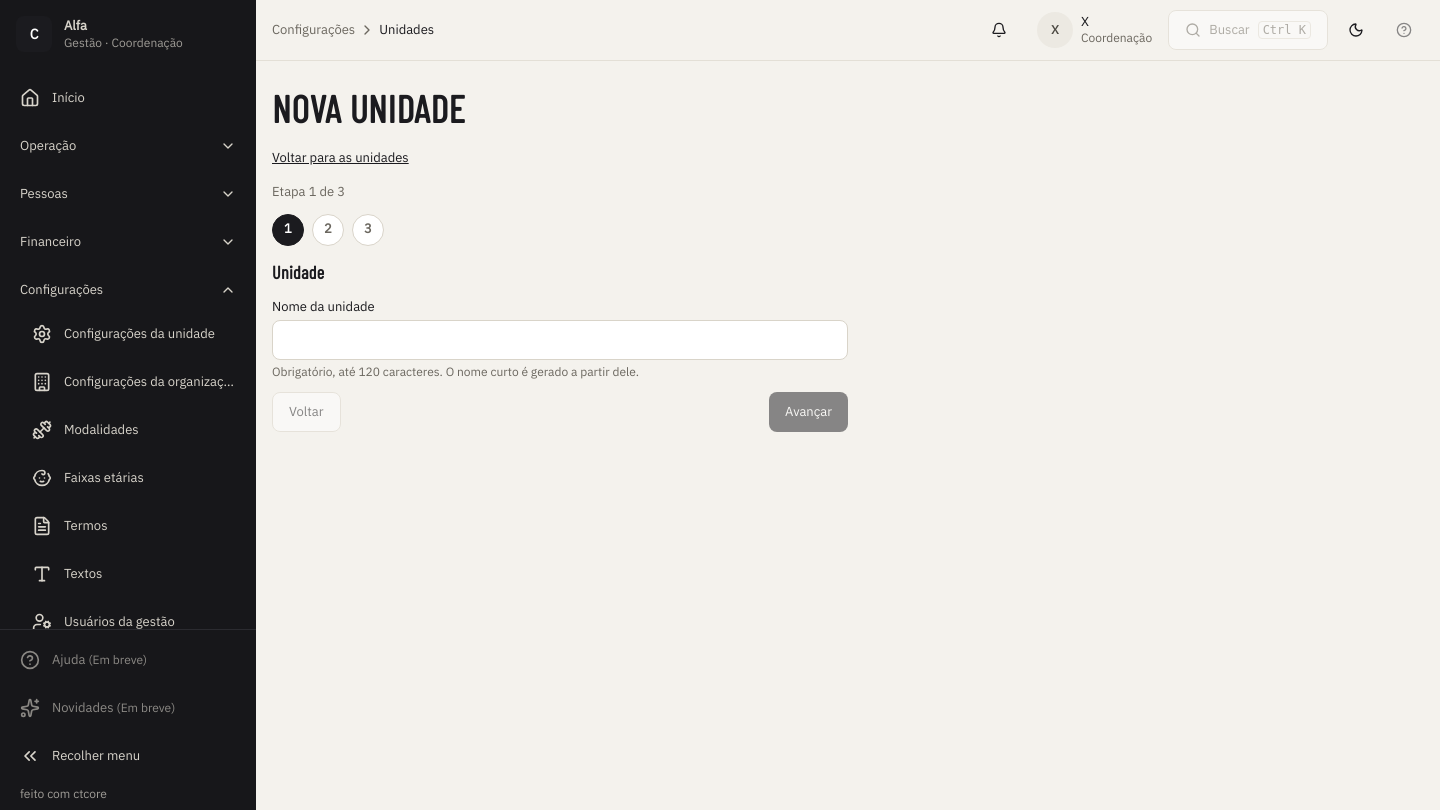
Test case: NewUnitPage › CA16: 409 UNIT_LIMIT_REACHED mostra a mensagem e permite tentar de novo
Type "Nova" into the field labelled "Nome da unidade" at x=560, y=340, box [272,320,848,360]
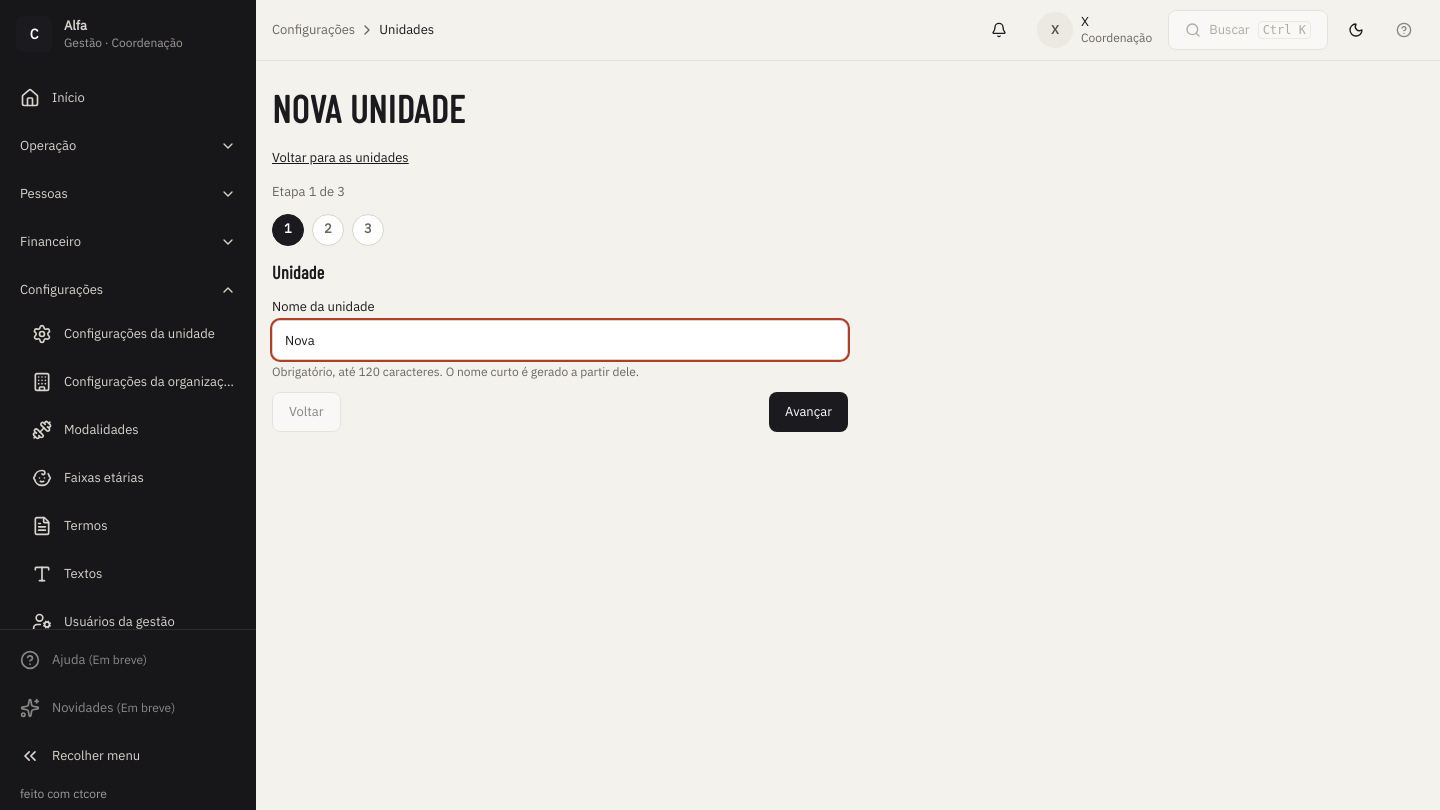
Click the button "Avançar" at x=809, y=412, box [769,392,848,432]
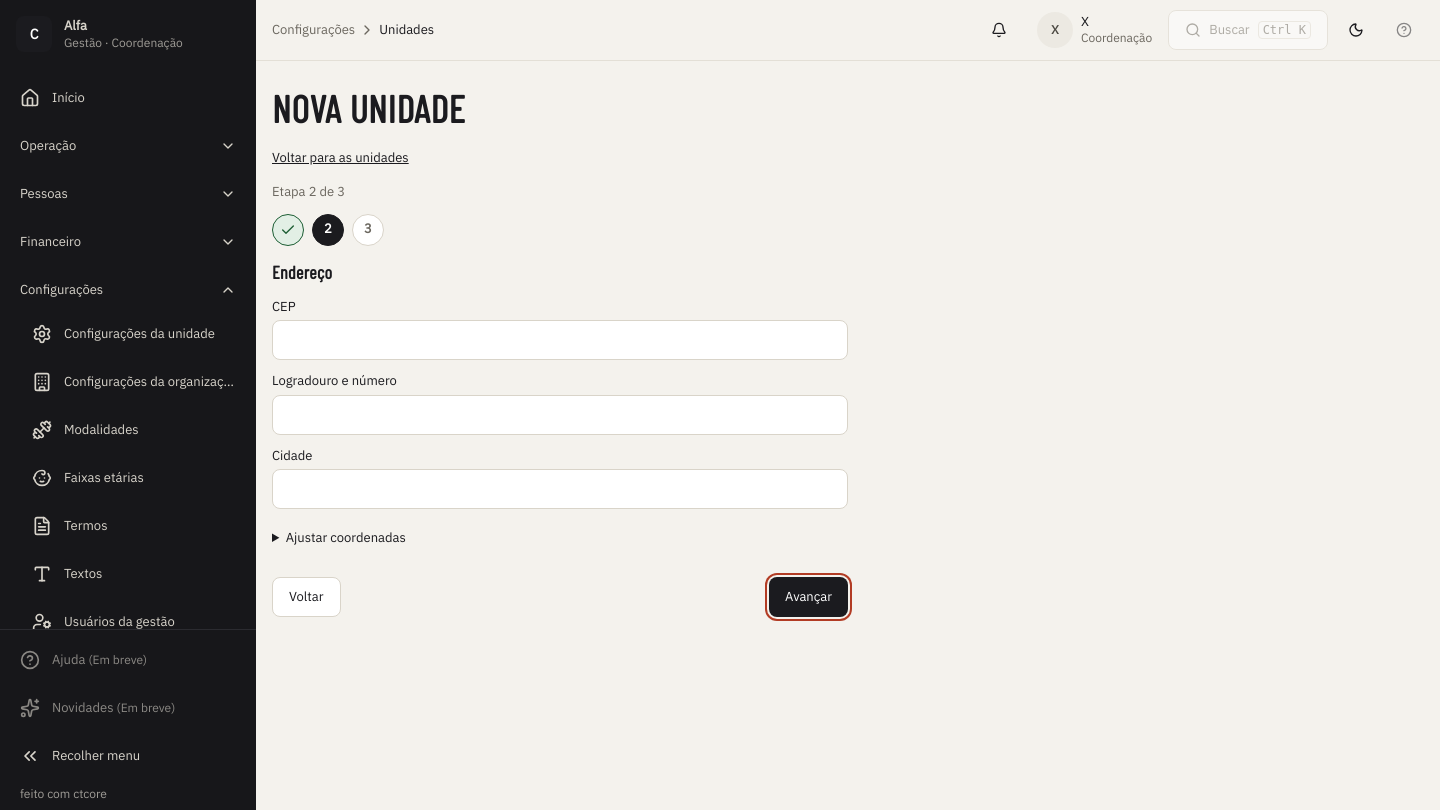
Click the button "Avançar" at x=809, y=597, box [769,577,848,617]
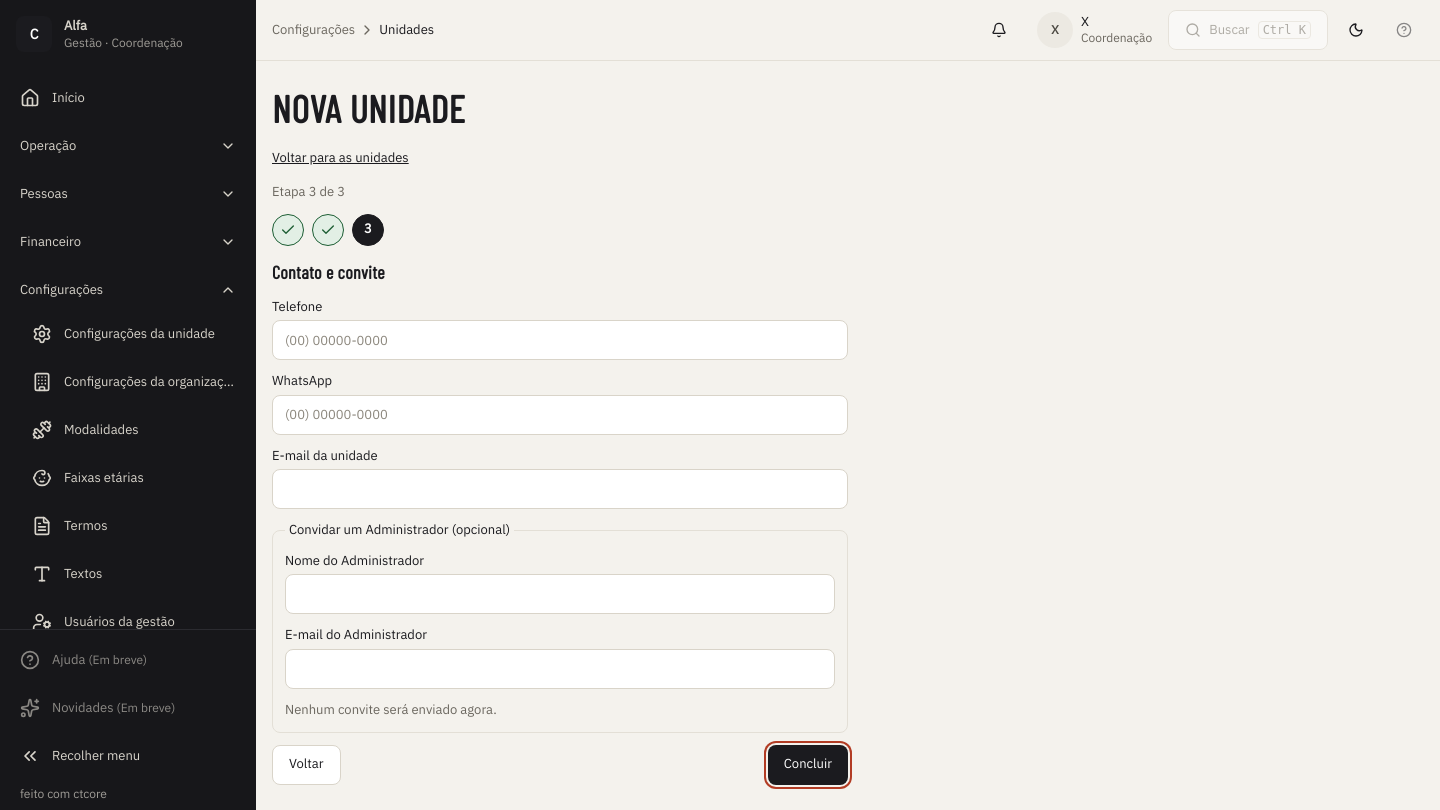
Click the button "Concluir" at x=808, y=765, box [768,745,848,785]
(page scrolled)
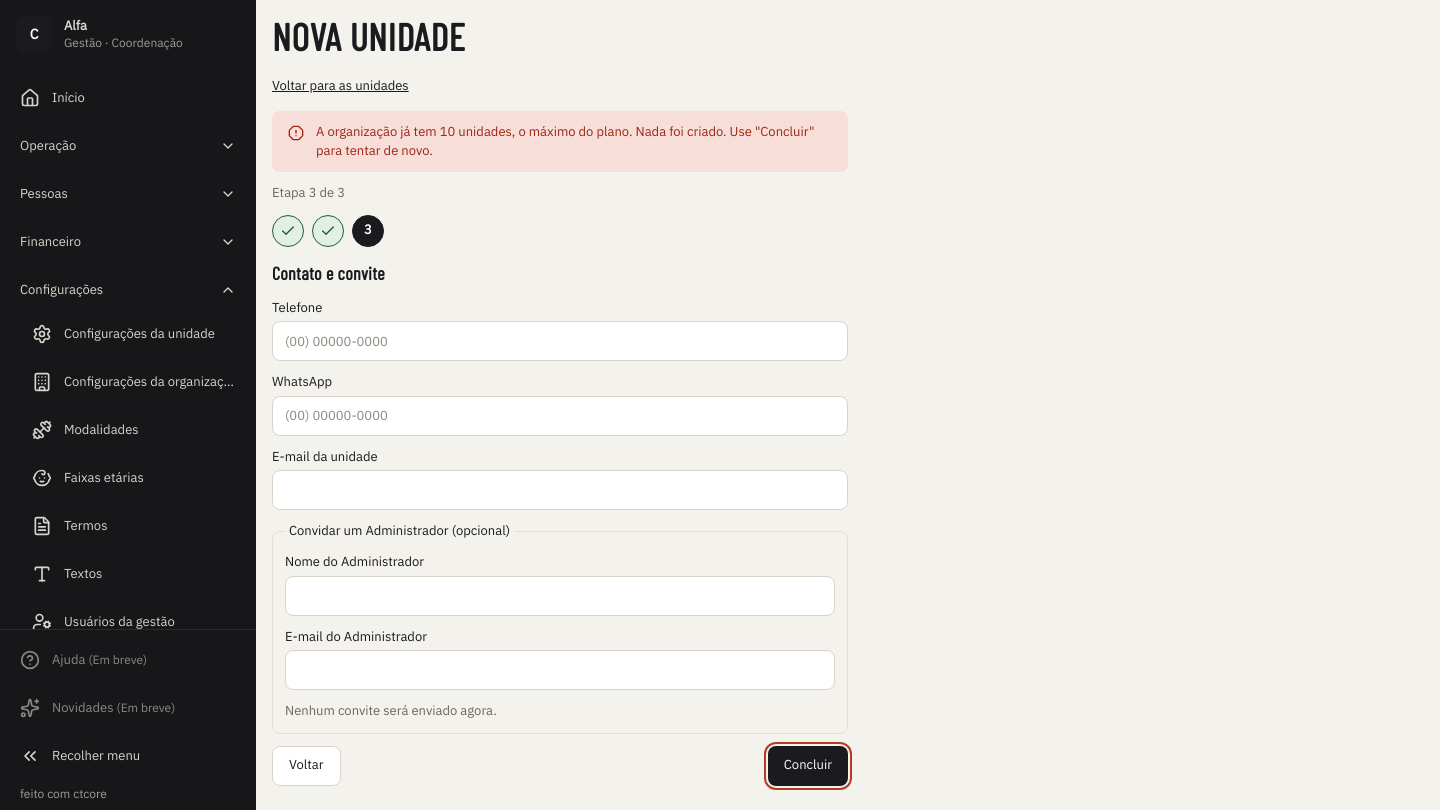
Check: the button "Concluir" is enabled, box [768,746,848,786]
Check: the 1st message shows "A organização já tem 10 unidades", box [316,123,726,140]
